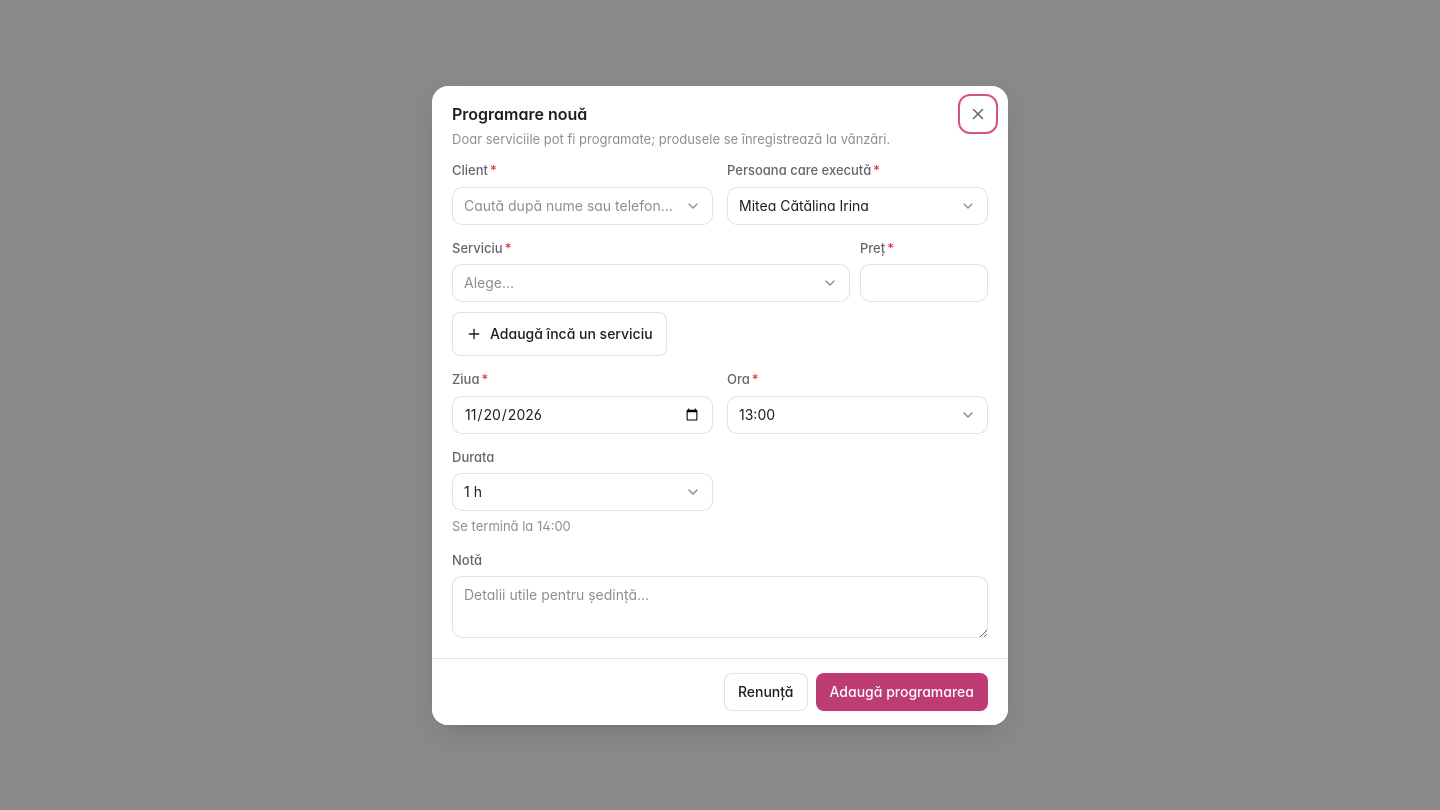
Test: client nou din formularul de programare › oferă crearea cu numele tastat și îl lasă ales
Click the dropdown named "Client" at (582,206), box [452,186,713,224]
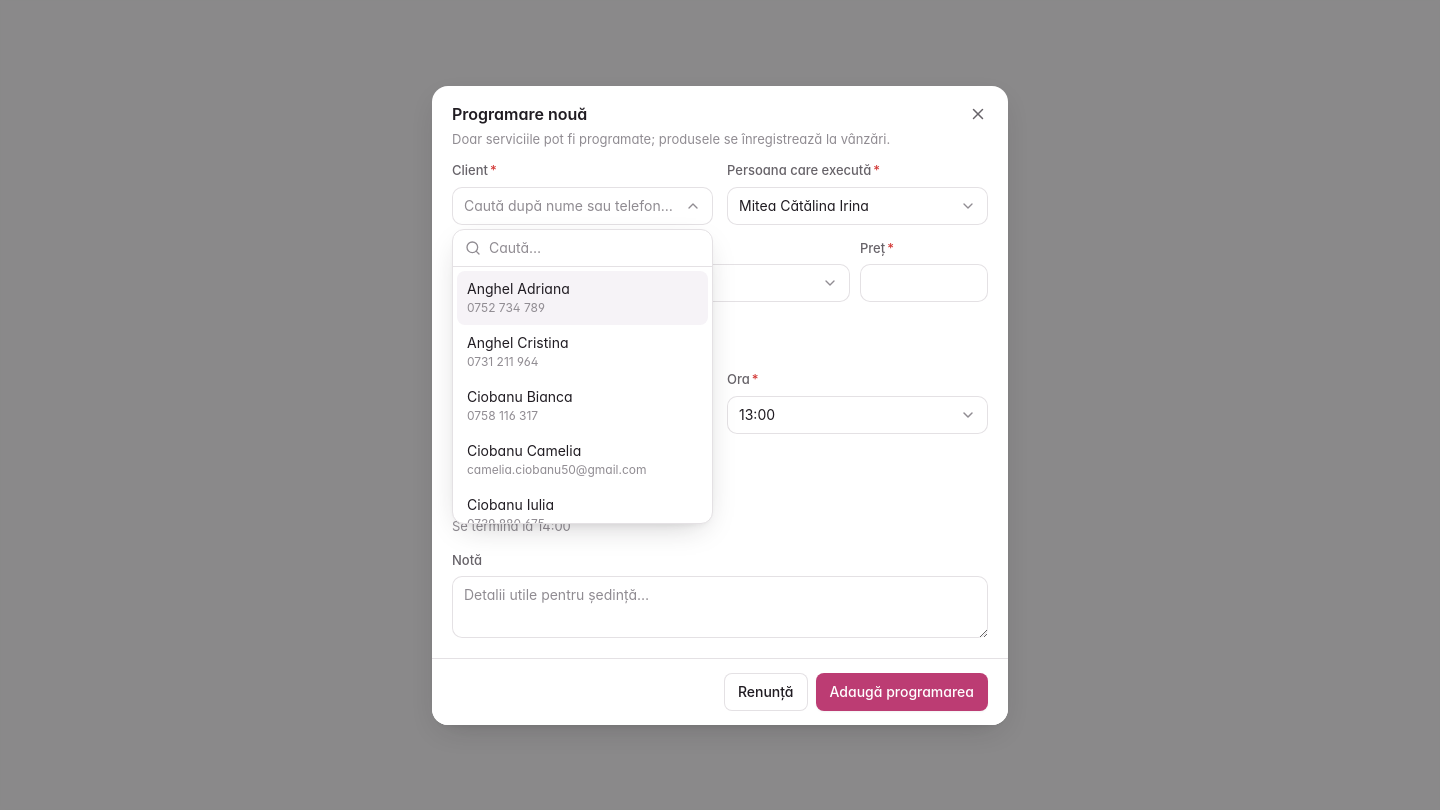
Type "Popescu Ana-Maria" into the field named "Caută în listă" at (594,248), box [489,230,700,266]
(page scrolled)
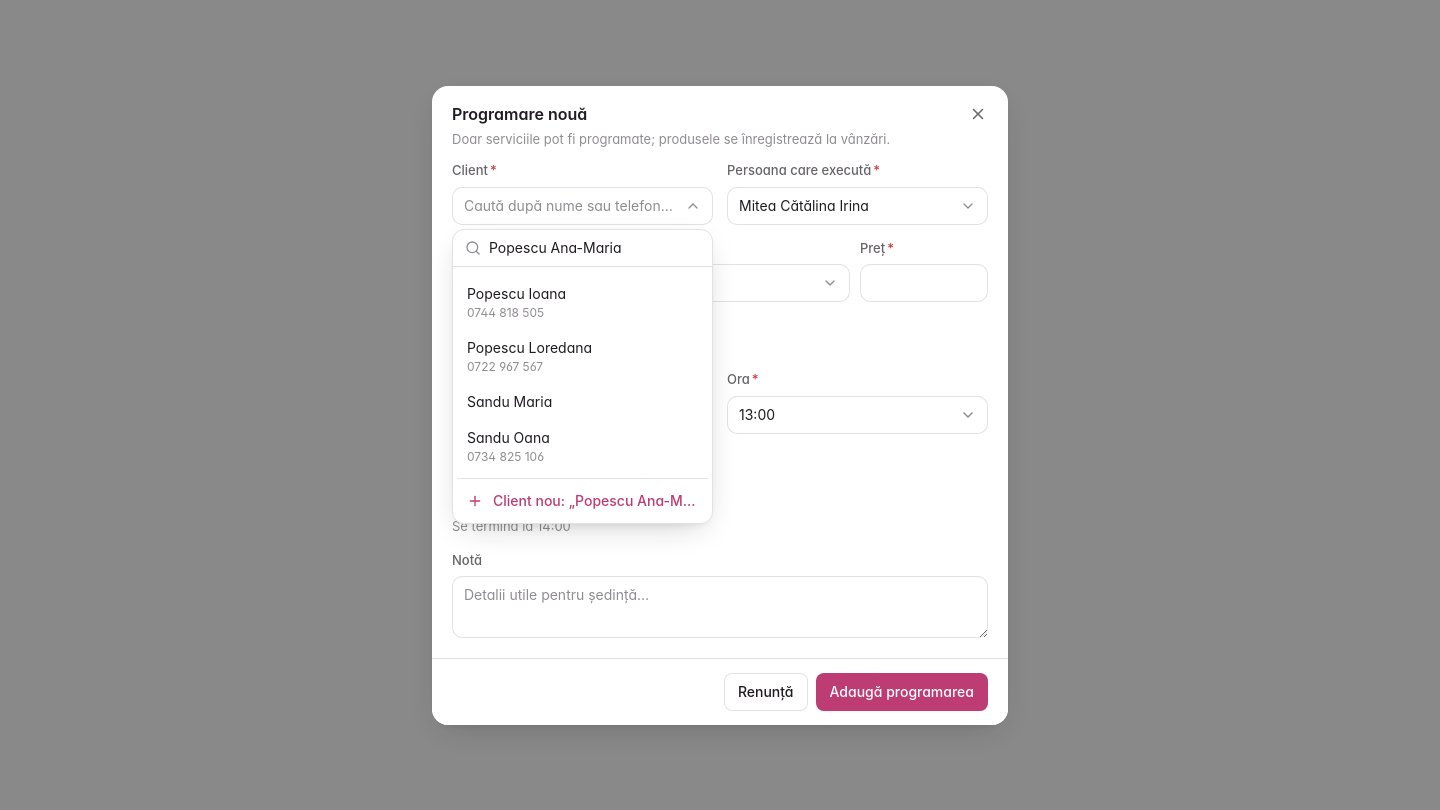
Click the button "Client nou: „Popescu Ana-Maria”" at (582,500), box [457,482,708,518]
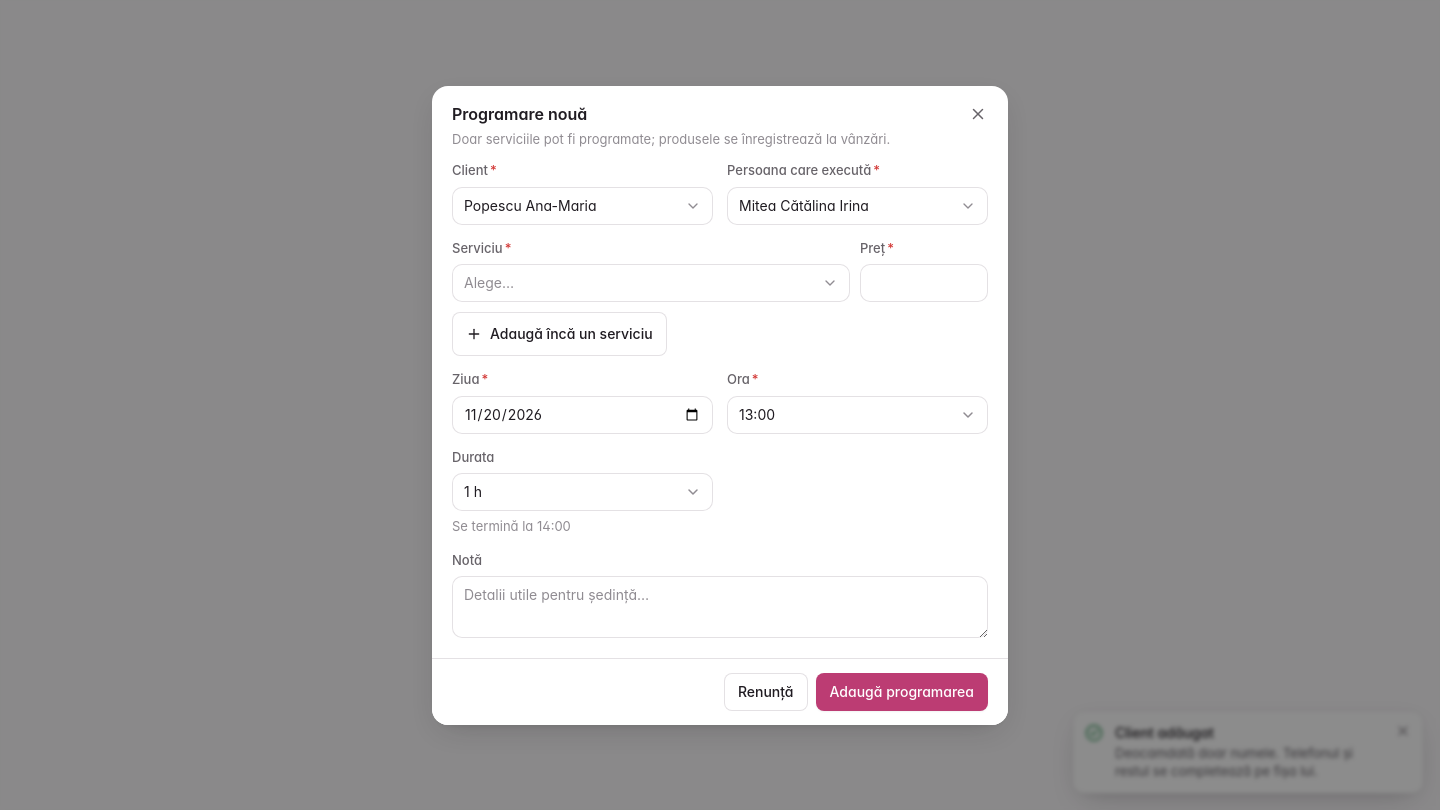
Check: the dropdown named "Client" reads "Popescu Ana-Maria", box [452,186,713,224]
